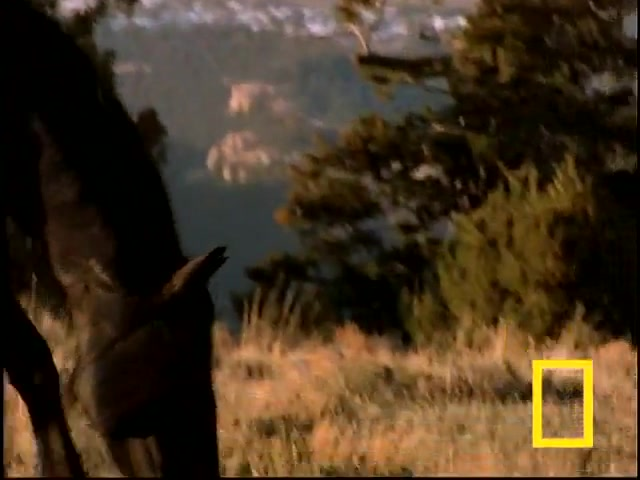horse: (1, 3, 233, 479)
